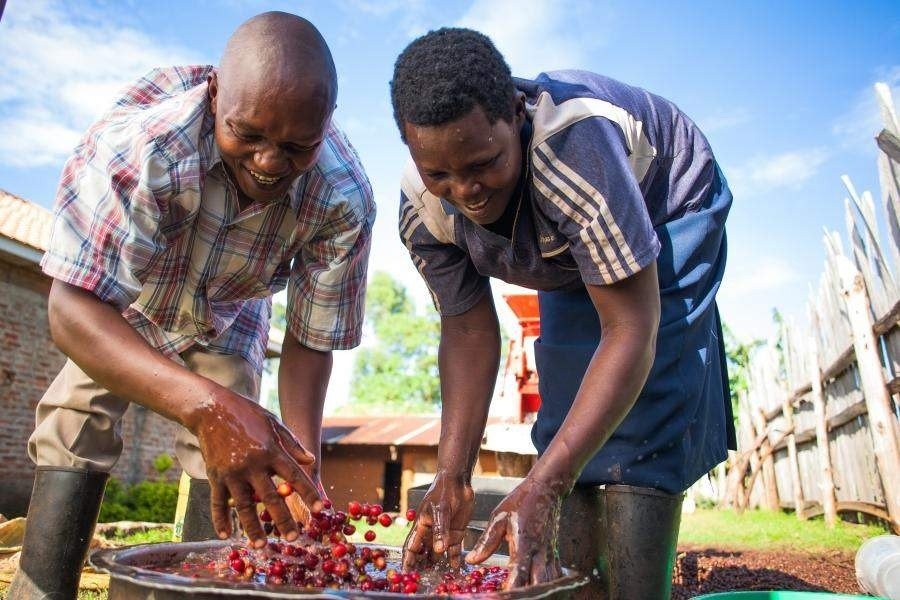face_no_mask: (390, 26, 528, 227), (206, 11, 338, 203)
